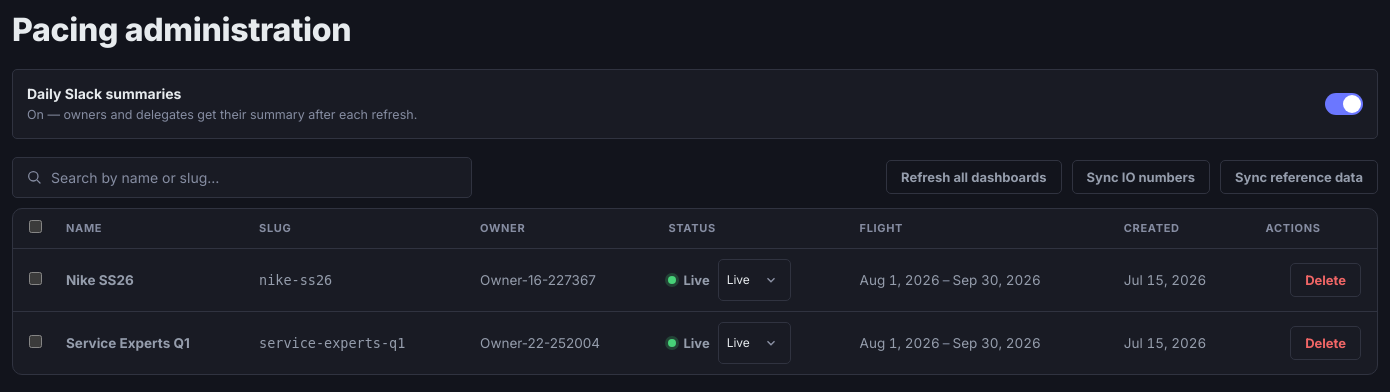
PacingAdmin › puts the search box first, before refresh-all, and filters by name or slug
The width and height of the screenshot is (1390, 392).
Expected: the text "Nike SS26" is shown, top-left (50, 249), bottom-right (243, 312)
searching by slug
Type "service-experts" into the search field named "Search pacings by name or slug" at (254, 177), box top-left (51, 167), bottom-right (458, 188)
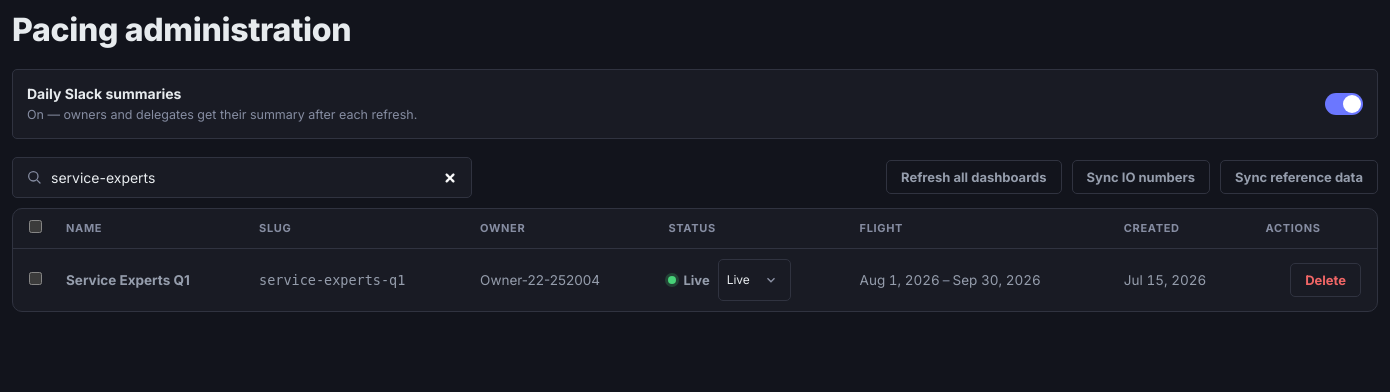
Expected: the text "Service Experts Q1" is shown, top-left (50, 249), bottom-right (243, 311)
Now the text "Nike SS26" is gone
